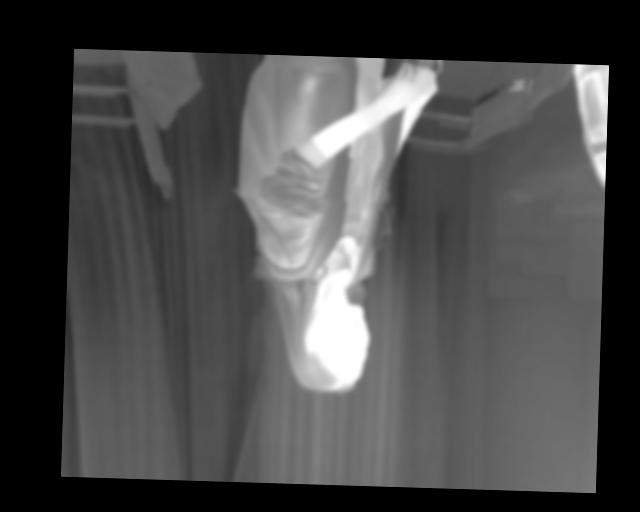face: (289, 300, 370, 395)
